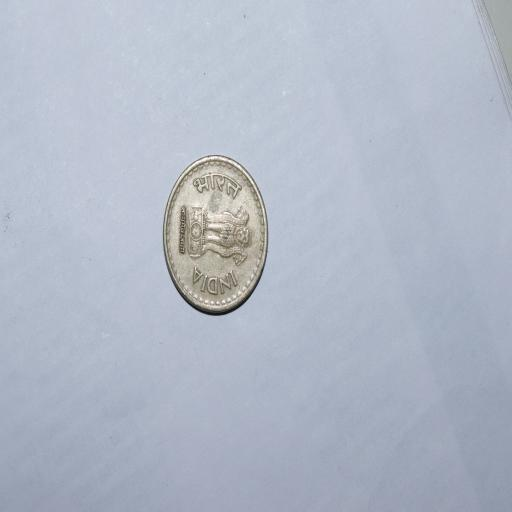rupee5: (162, 153, 270, 316)
